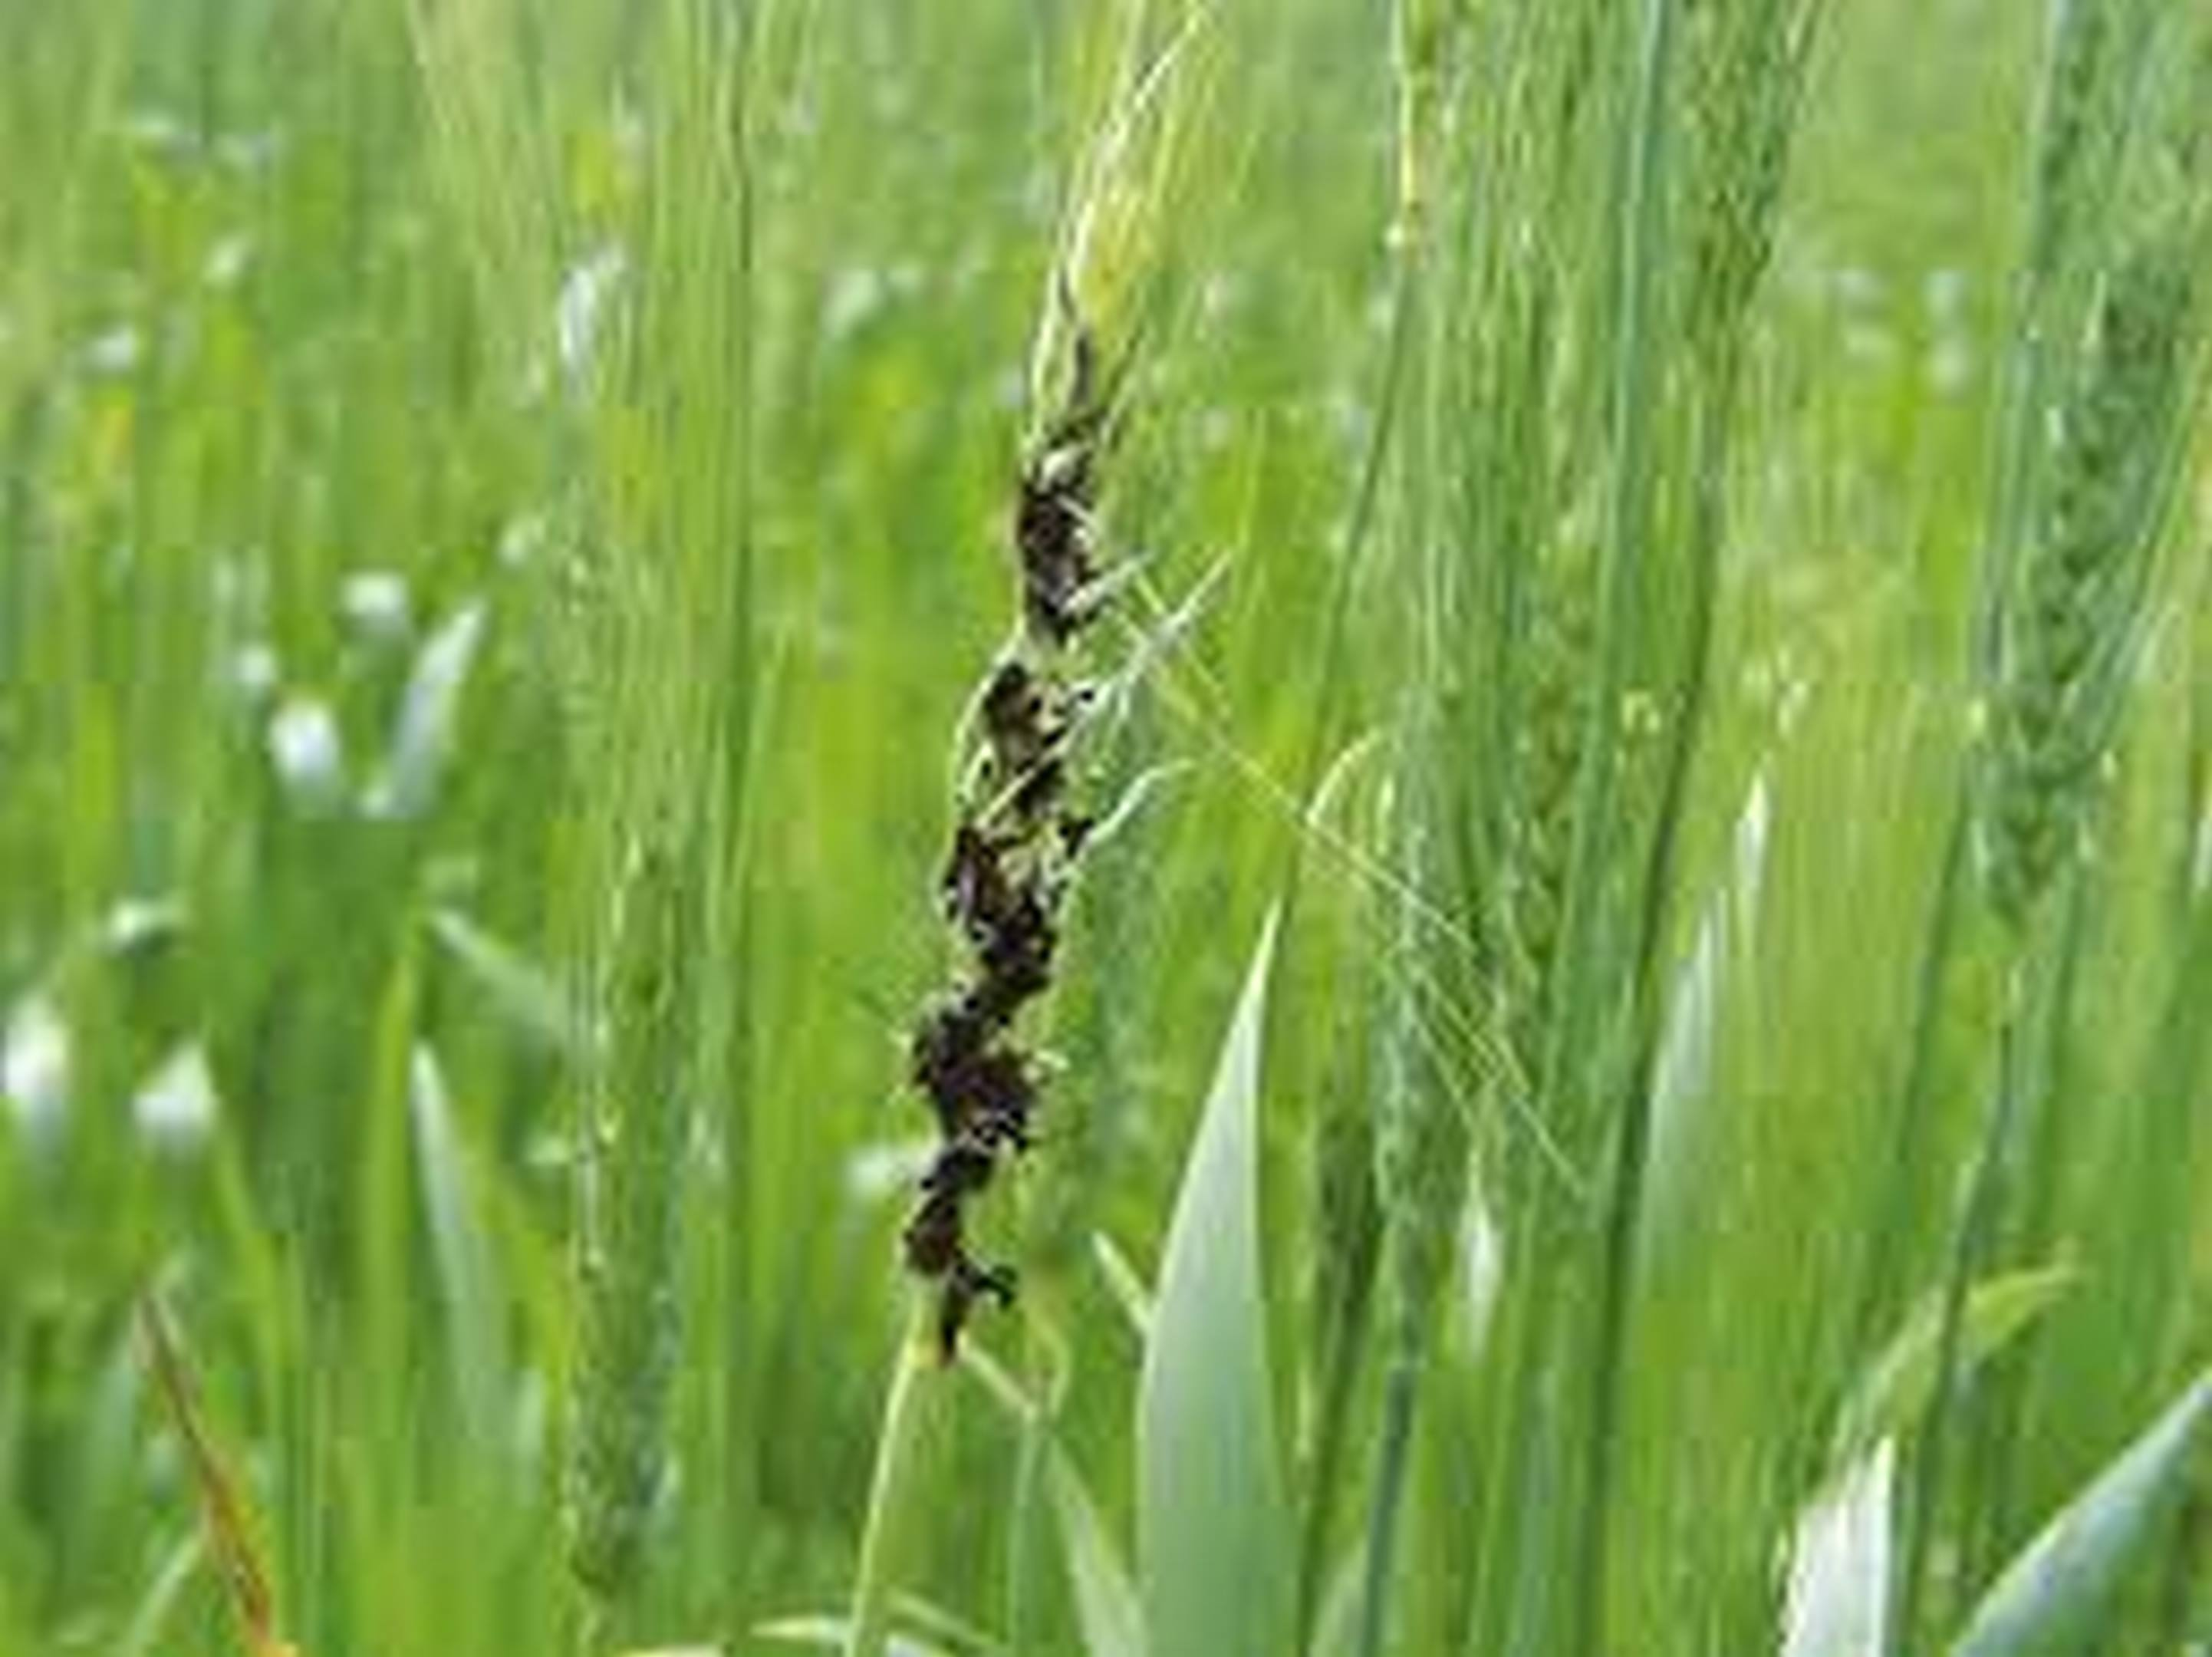Wheat Loose Smut: (863, 360, 1196, 1271)
